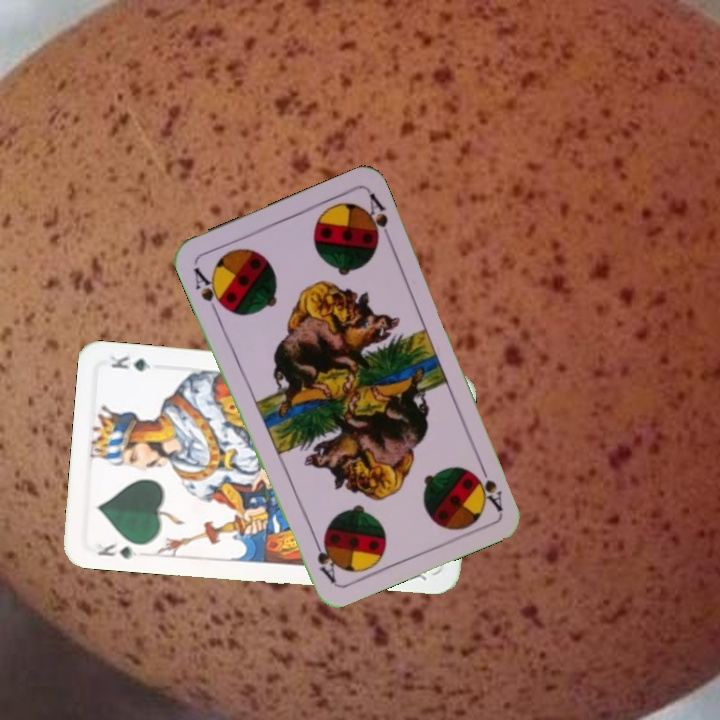GK: (94, 538, 139, 562)
SA: (189, 263, 229, 318), (470, 457, 505, 514)
